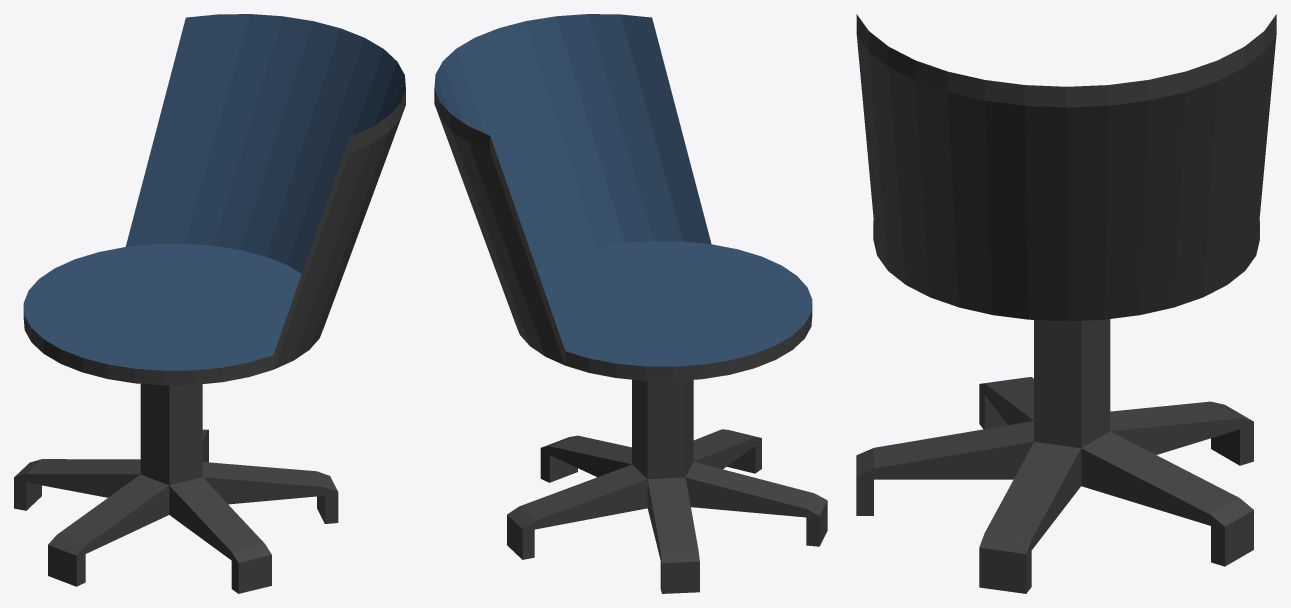
Rendered from chair.fbx.
The picture shows the model from 3 angles, left to right: view 1: azimuth 30°, elevation 25°; view 2: azimuth 150°, elevation 25°; view 3: azimuth 270°, elevation 25°; orthographic projection. The views are drawn at different scales.
Visible parts, largest first — view 1: Cylinder.002; view 2: Cylinder.002; view 3: Cylinder.002.
Boxes of the visible parts, x1,y1,x2,y2 form: Cylinder.002: (14, 14, 405, 593); Cylinder.002: (434, 14, 827, 593); Cylinder.002: (856, 14, 1276, 593).
Size of the model in its own units: 1748 by 2038 by 1409.
